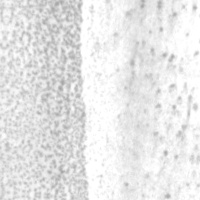pitted_surface: (0, 0, 102, 196), (119, 4, 200, 200)
